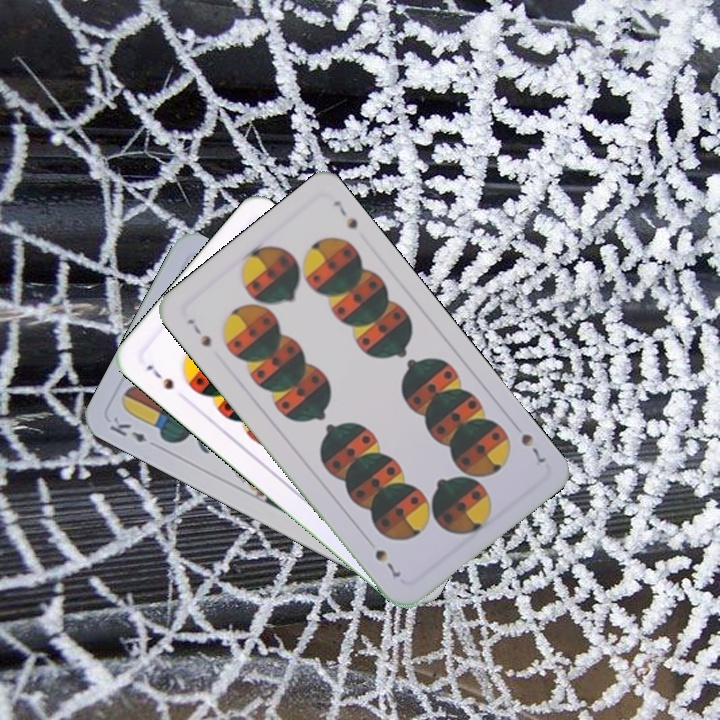EK: (105, 412, 150, 445)
S7: (517, 429, 548, 469), (141, 360, 176, 393), (182, 314, 214, 350)
